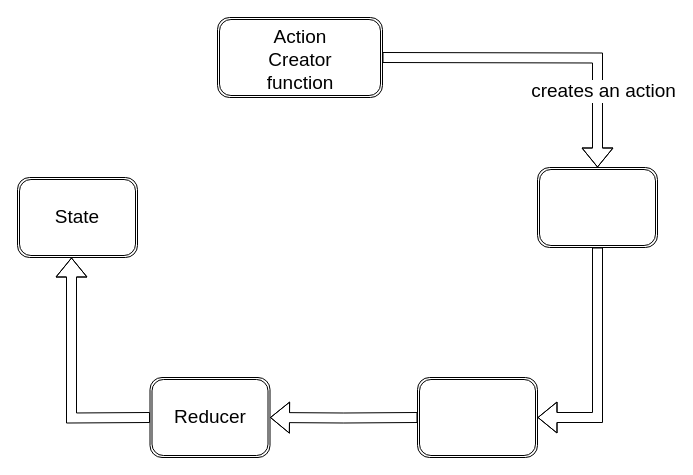
Some shapes in this 693 by 475 pixel diagram are drawn without their labels. The centre of each missing label's shape, as x and y in pixels:
Action: the point at 597,207
Dispatch: the point at 477,417
